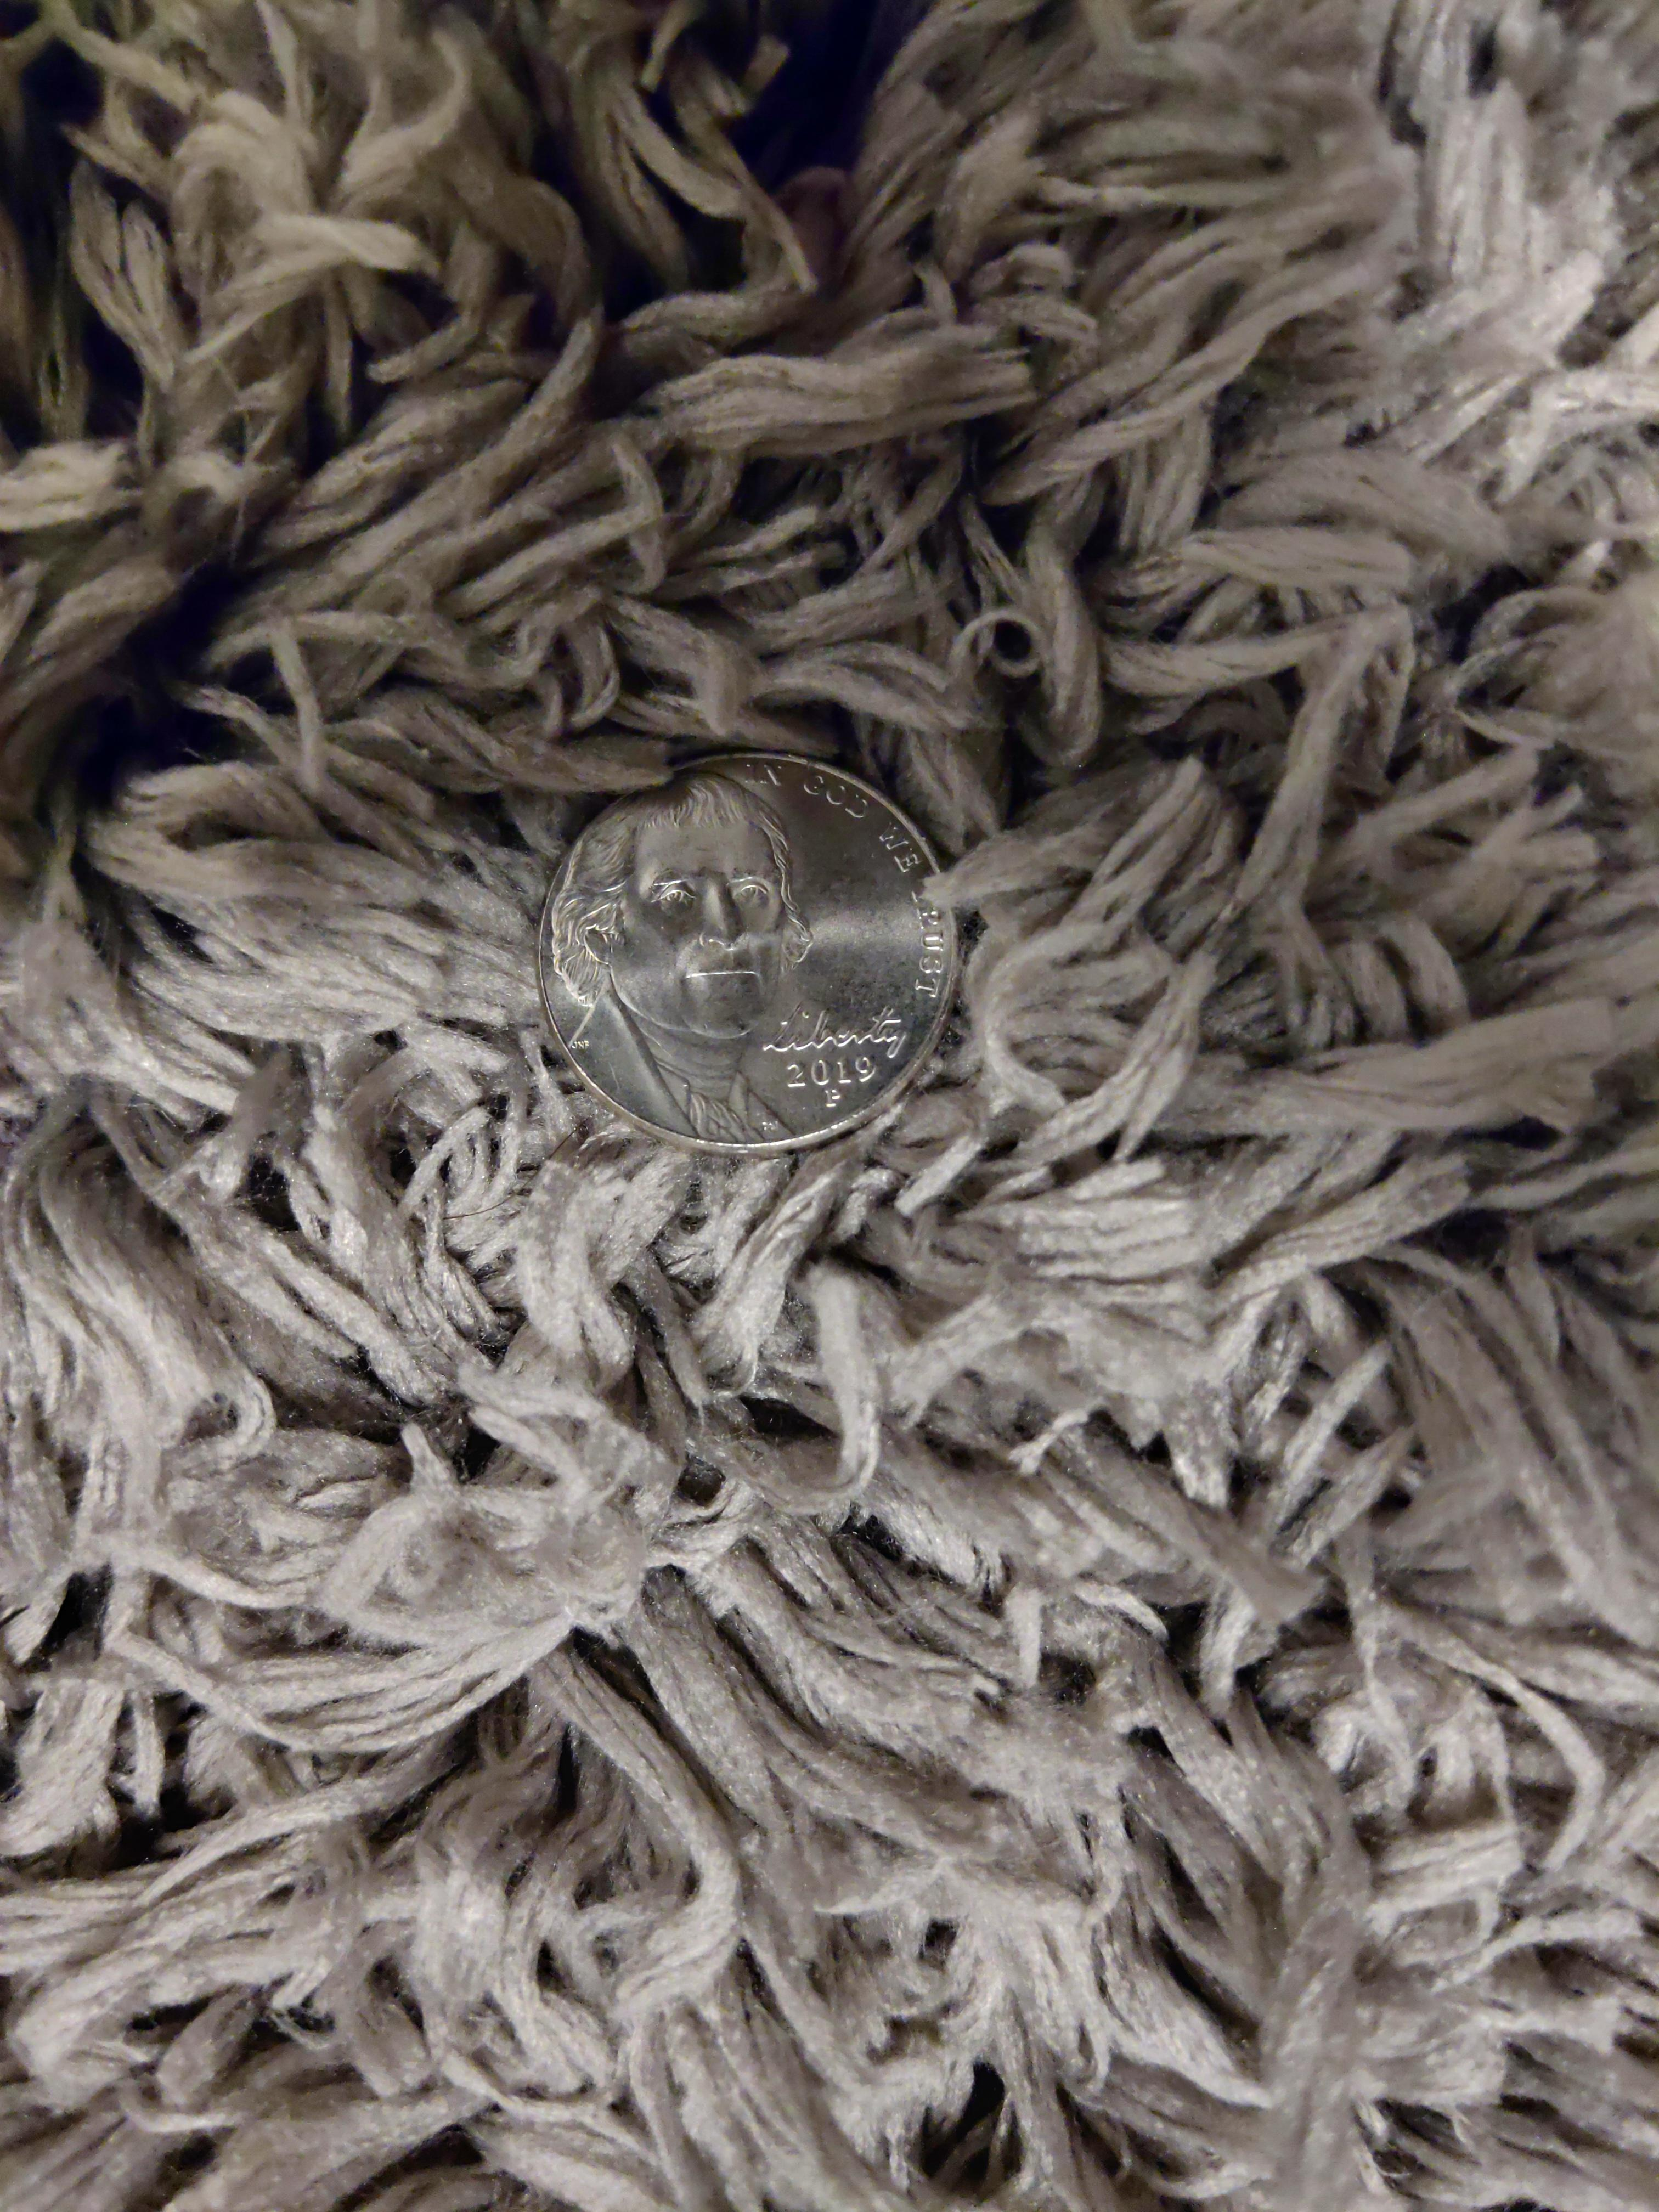Nickel: (530, 744, 962, 1157)
